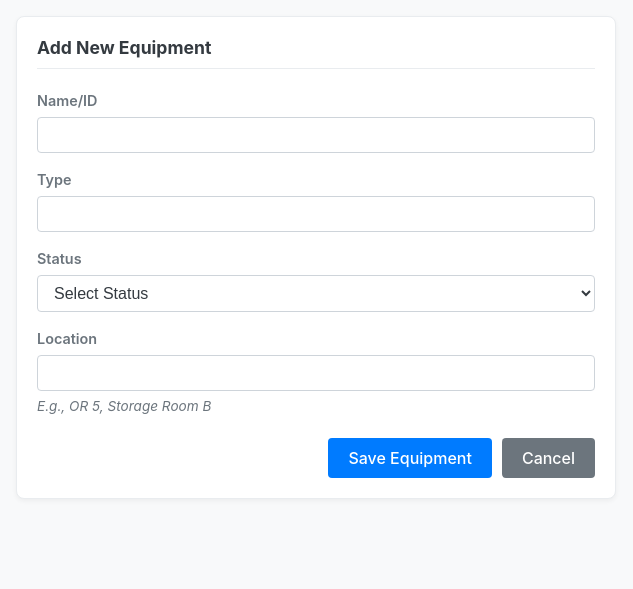
it: AddEquipmentForm › clears validation errors on input
This screenshot has width=633, height=589.
// Submit once to show errors
Submit the form, box [37,89,595,478]
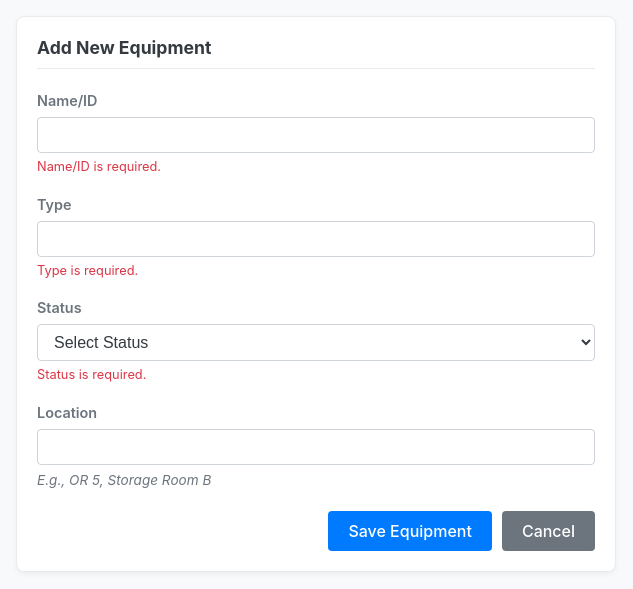
Expected: the text "Name/ID is required." is shown, [37,159,161,174]
// Enter value and check if error clears
Type "Some Name" into the field with id "equipment-name" at x=316, y=135, box [37,117,595,153]
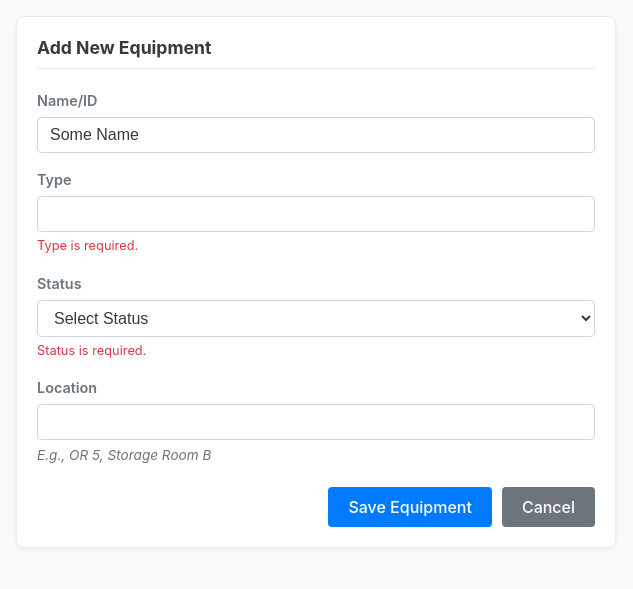
Expected: the text "Name/ID is required." is gone
